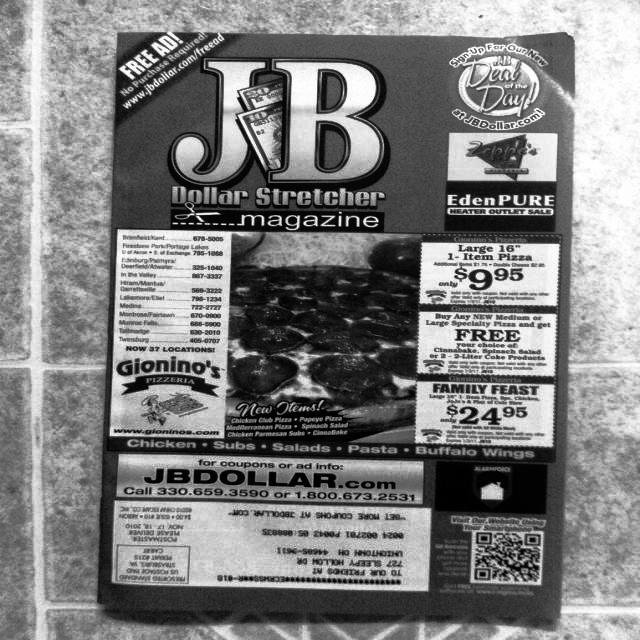qr_code: (474, 532, 540, 581)
